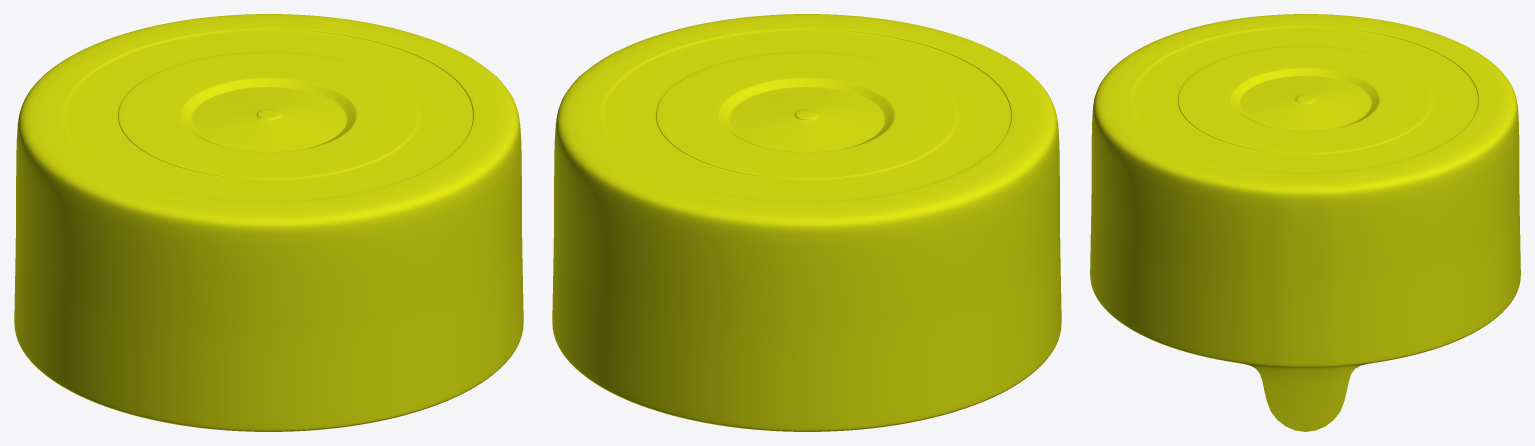
File: Cap3.glb
The picture shows the model from 3 angles, left to right: view 1: azimuth 30°, elevation 25°; view 2: azimuth 150°, elevation 25°; view 3: azimuth 270°, elevation 25°; orthographic projection. The views are drawn at different scales.
Visible parts, largest first — view 1: Circle; view 2: Circle; view 3: Circle.
Part boxes in pixels (x1,y1,x2,y2): Circle: (14,14,523,431); Circle: (552,14,1061,431); Circle: (1090,14,1520,431).
Size of the model in its own units: 0.055 by 0.0343 by 0.055.
